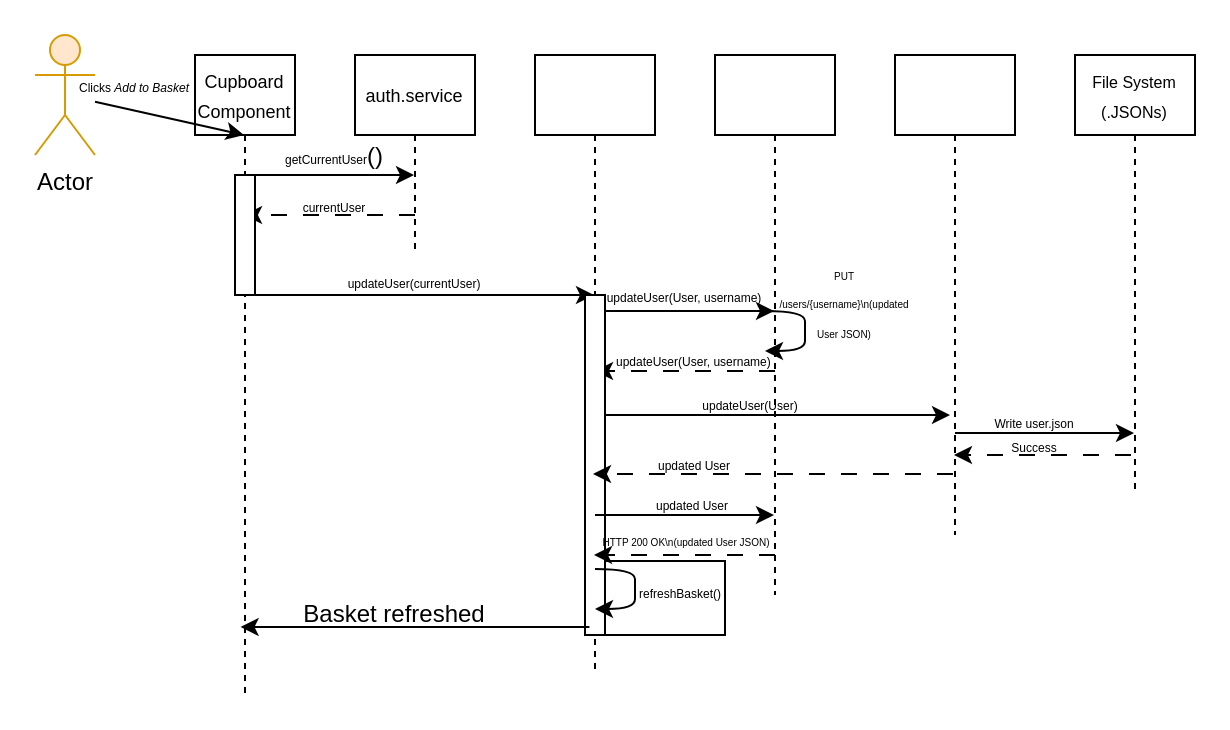
The diagram is 1230 pixels wide and 730 high, and some of its shapes have lost their labels. Each missing label, with the box of its shape:
UserController: (713, 53, 835, 595)
UserFileDAO: (893, 53, 1015, 535)
UserService: (533, 53, 655, 675)
